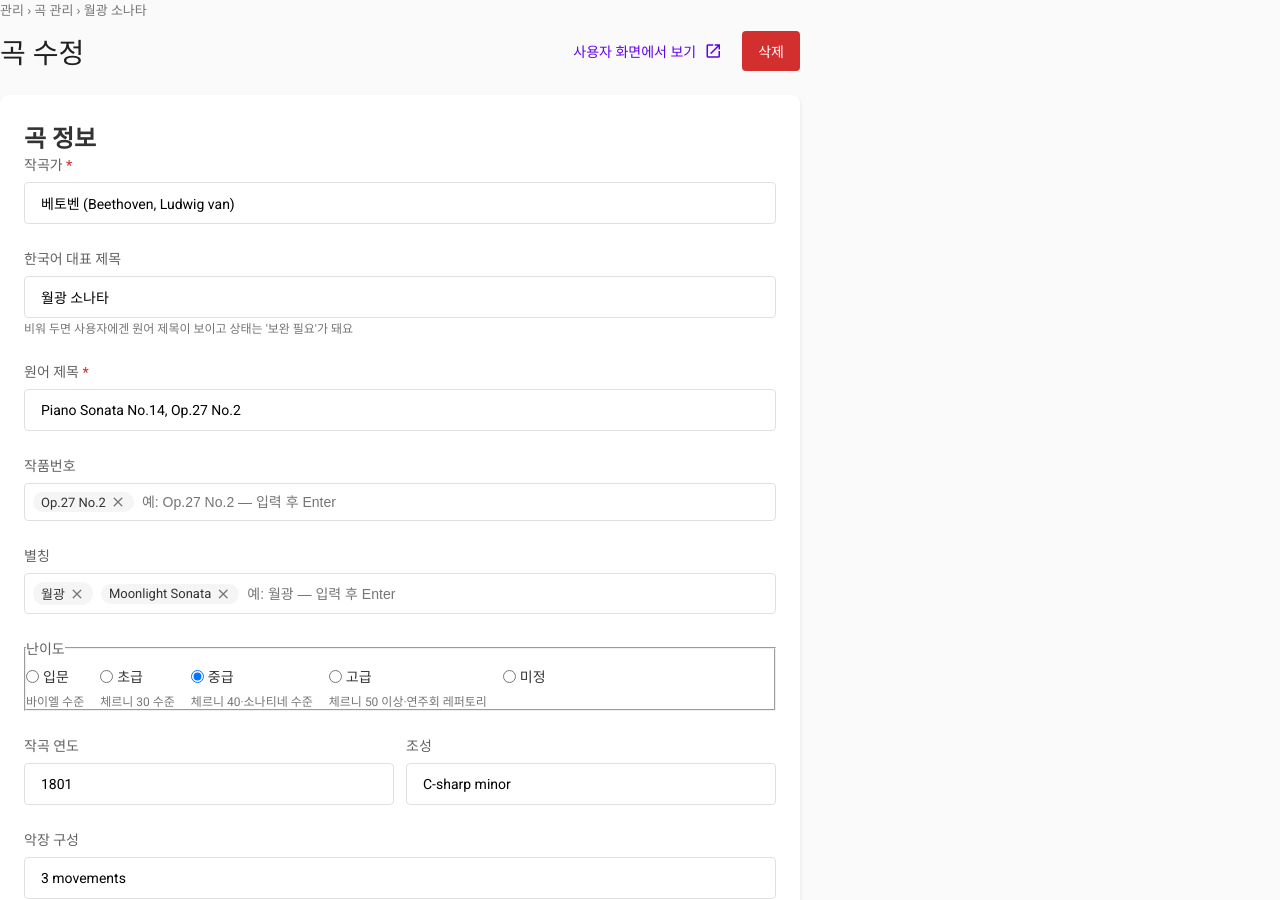
it: WorkFormPage — 삭제·판본 영역 › 판본이 있으면 '판본 1개와 파일이 함께 지워져요. 삭제할까요?'
The width and height of the screenshot is (1280, 900).
Expected: the field labelled "원어 제목" holds "Piano Sonata No.14, Op.27 No.2", [24, 389, 776, 431]
Click the button "삭제" at (771, 51), box [742, 31, 800, 71]
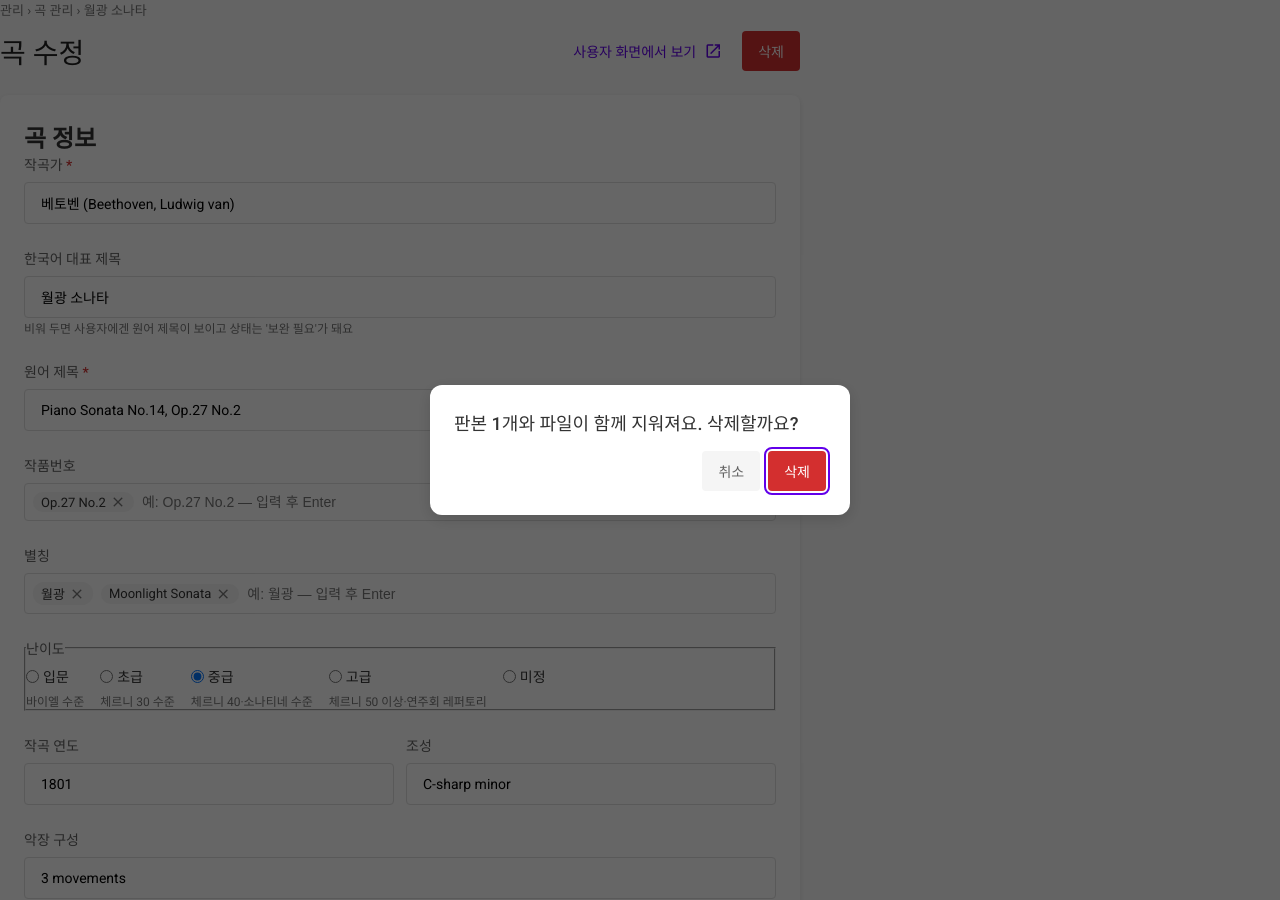
Result: the dialog "판본 1개와 파일이 함께 지워져요. 삭제할까요?" is shown at [430, 385, 850, 515]
